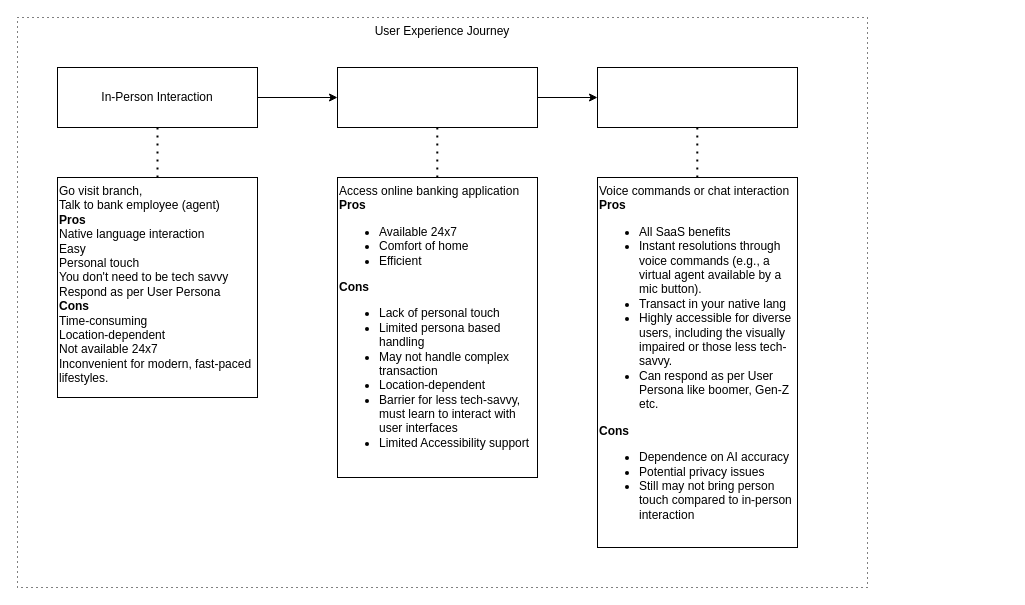
This 1025x605 diagram has some shape labels left out. The shapes that lost their labels are listed below. From the top down, each one's box as (x1, y1, x2, y2) in pixels, then its label:
(336, 66, 538, 128): SaaS Experience
(596, 66, 798, 128): AI Agents - Experience
